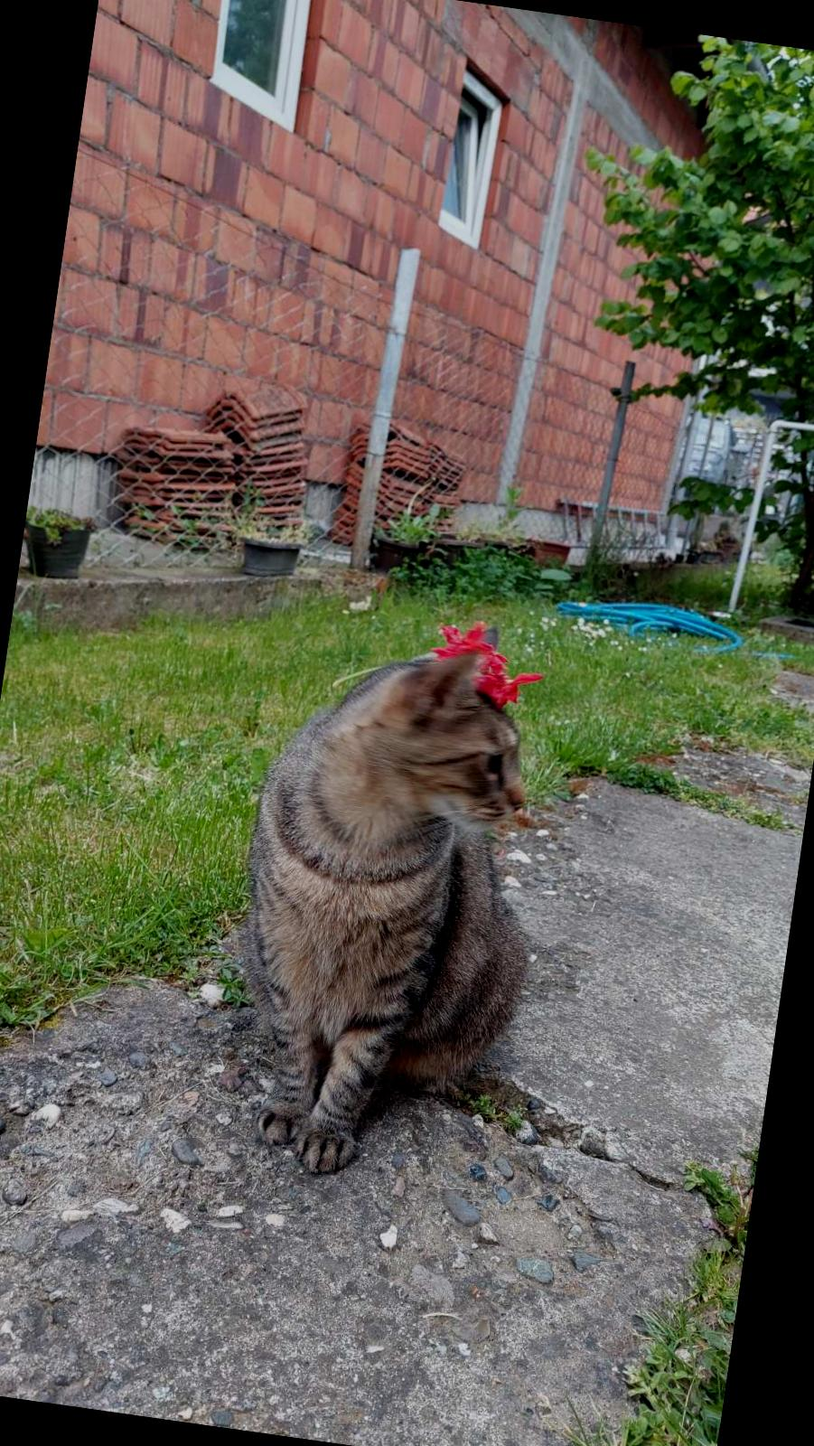macka: (197, 613, 572, 1203)
